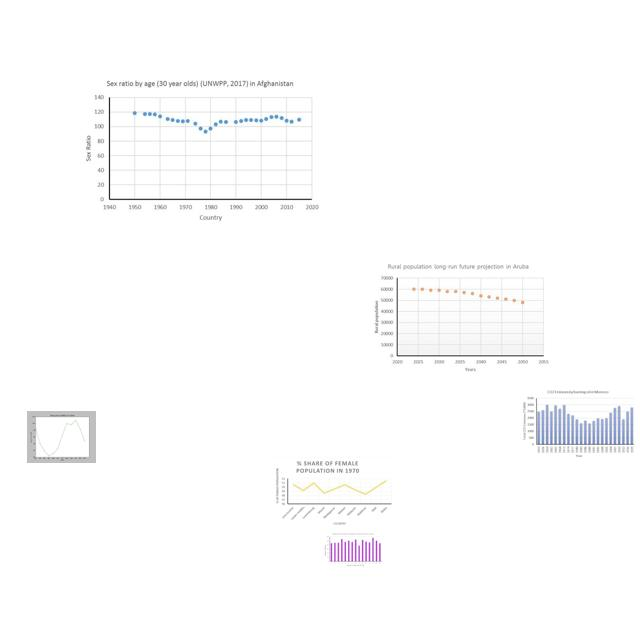Graph: (78, 76, 322, 225), (372, 261, 550, 373), (273, 457, 395, 529), (520, 389, 636, 459), (27, 411, 96, 463), (323, 532, 383, 568)
